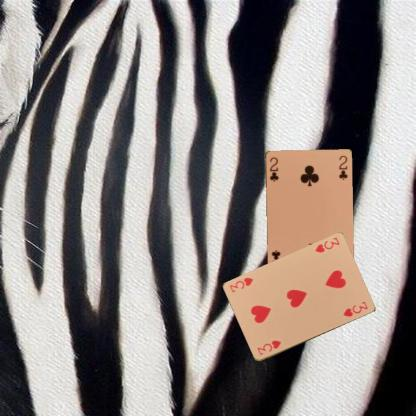2c: (267, 154, 279, 183)
3h: (313, 235, 340, 254), (254, 338, 282, 356)
